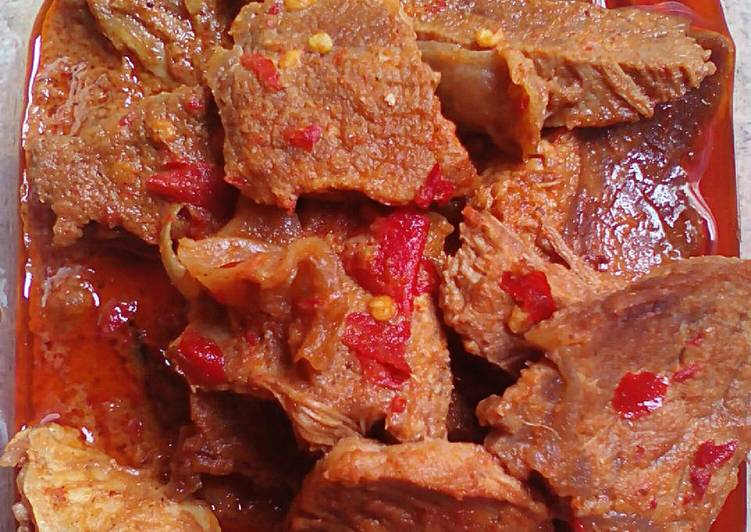rendang: (25, 25, 746, 521)
